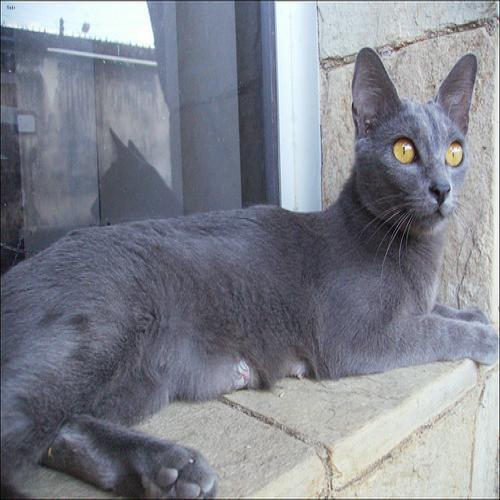rblue: (348, 46, 482, 237)
